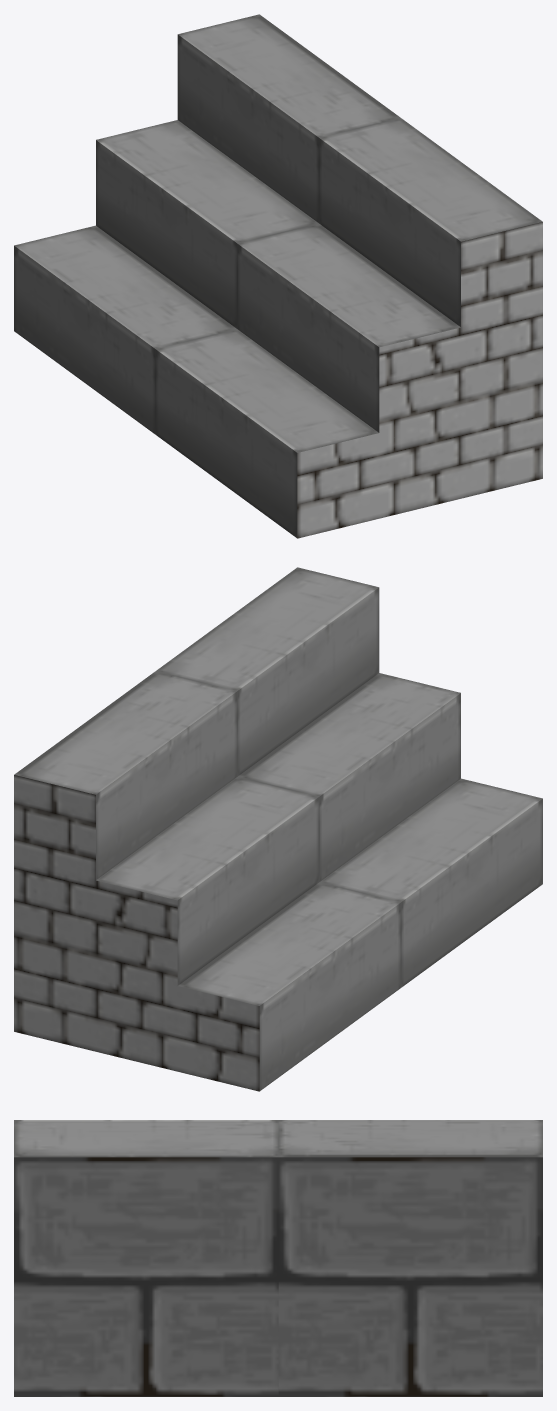
Rendered from stoneStairs1x1.fbx.
3 renders of one model, top to bottom at view 1: azimuth 30°, elevation 25°; view 2: azimuth 150°, elevation 25°; view 3: azimuth 270°, elevation 25°, orthographic. The views are drawn at different scales.
Visible parts, largest first — view 1: stoneStairs1x1; view 2: stoneStairs1x1; view 3: stoneStairs1x1.
Part boxes in pixels (x1,y1,x2,y2): stoneStairs1x1: [14, 14, 542, 538]; stoneStairs1x1: [14, 567, 542, 1091]; stoneStairs1x1: [14, 1120, 542, 1396].
Size of the model in its own units: 100 by 100 by 200.
Materials: 1 (1 with a texture image).
